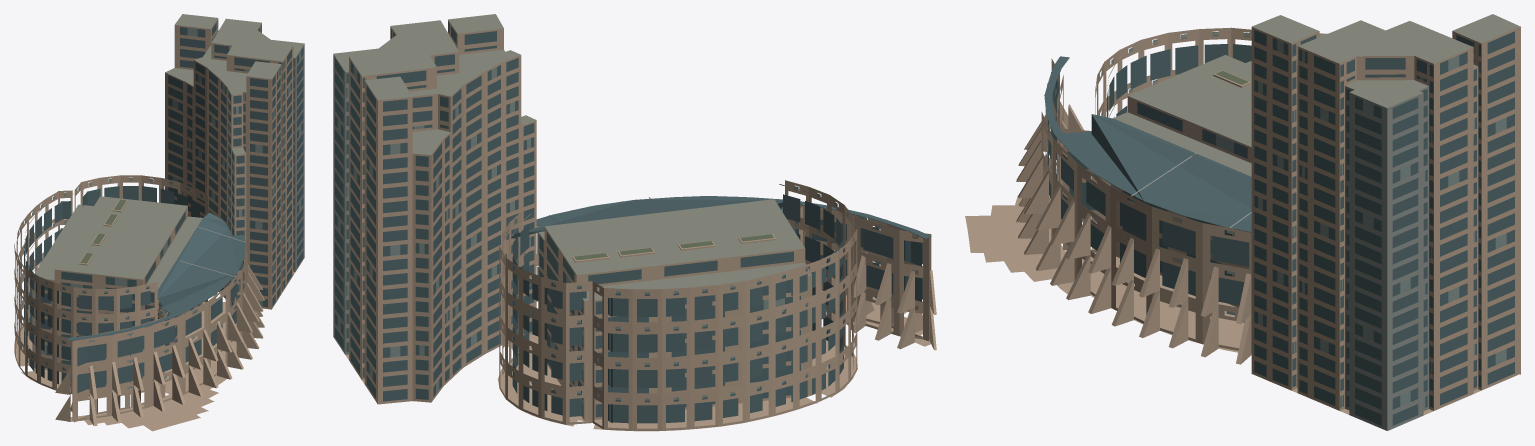
Rendered from vancouver-public-library-far.glb.
3 views of the same model, side by side, from view 1: azimuth 30°, elevation 25°; view 2: azimuth 150°, elevation 25°; view 3: azimuth 270°, elevation 25° (orthographic). The views are drawn at different scales.
Visible parts, largest first — view 1: vancouver-public-library-0-stone, vancouver-public-library-0-glass, vancouver-public-library-0-roof, vancouver-public-library-0-frame, vancouver-public-library-0-glow, vancouver-public-library-0-garden; view 2: vancouver-public-library-0-stone, vancouver-public-library-0-glass, vancouver-public-library-0-roof, vancouver-public-library-0-glow, vancouver-public-library-0-frame, vancouver-public-library-0-garden; view 3: vancouver-public-library-0-stone, vancouver-public-library-0-glass, vancouver-public-library-0-roof, vancouver-public-library-0-frame, vancouver-public-library-0-glow.
Boxes of the visible parts, bbox=[...] form: vancouver-public-library-0-stone: bbox=[14, 18, 294, 431]; vancouver-public-library-0-glass: bbox=[24, 20, 303, 393]; vancouver-public-library-0-roof: bbox=[34, 14, 304, 291]; vancouver-public-library-0-frame: bbox=[176, 44, 304, 276]; vancouver-public-library-0-glow: bbox=[17, 28, 301, 396]; vancouver-public-library-0-garden: bbox=[80, 199, 126, 263]; vancouver-public-library-0-stone: bbox=[345, 20, 936, 431]; vancouver-public-library-0-glass: bbox=[335, 22, 931, 423]; vancouver-public-library-0-roof: bbox=[333, 14, 811, 301]; vancouver-public-library-0-glow: bbox=[337, 66, 915, 400]; vancouver-public-library-0-frame: bbox=[333, 54, 664, 354]; vancouver-public-library-0-garden: bbox=[574, 234, 773, 260]; vancouver-public-library-0-stone: bbox=[965, 26, 1520, 415]; vancouver-public-library-0-glass: bbox=[1044, 30, 1514, 425]; vancouver-public-library-0-roof: bbox=[1113, 14, 1520, 176]; vancouver-public-library-0-frame: bbox=[1131, 86, 1428, 430]; vancouver-public-library-0-glow: bbox=[1047, 32, 1506, 408].
Size of the model in its own units: 138 by 86 by 124.
